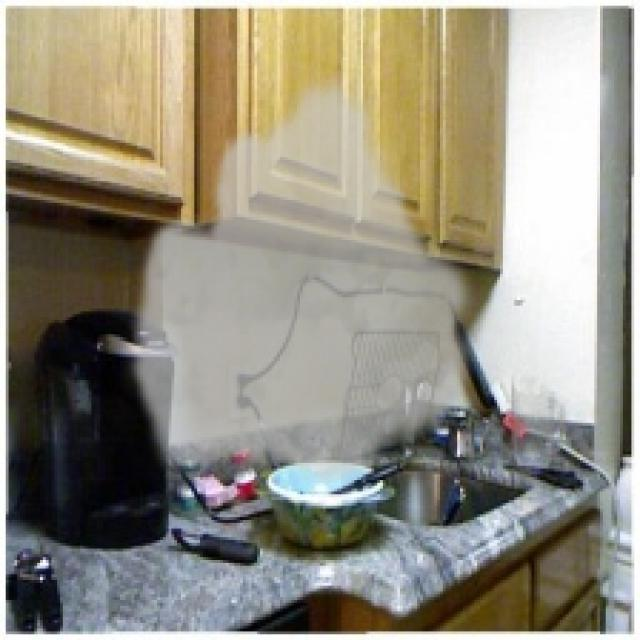Smoke: (126, 69, 483, 488)
